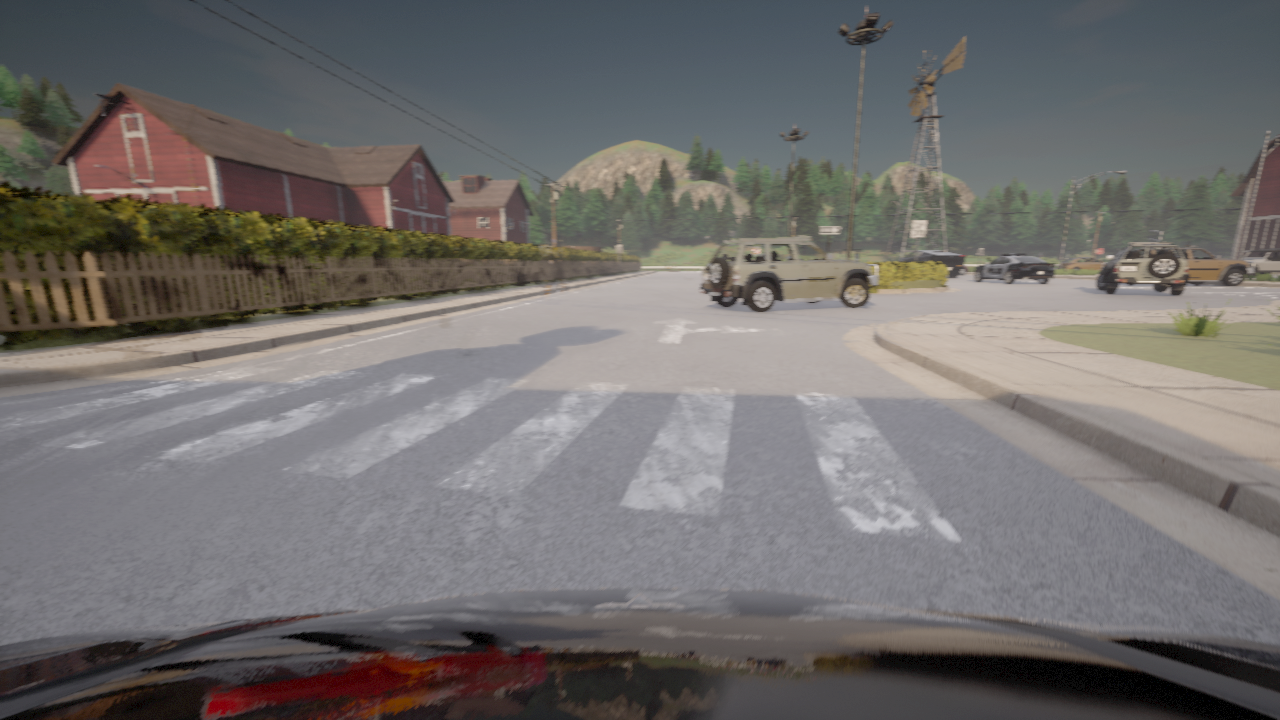cyclist: (0, 588, 1279, 719), (699, 236, 877, 313), (1096, 242, 1189, 295), (1179, 245, 1254, 286), (974, 253, 1055, 283), (898, 250, 965, 277), (1242, 249, 1279, 277), (1061, 258, 1105, 269), (959, 265, 968, 274)
